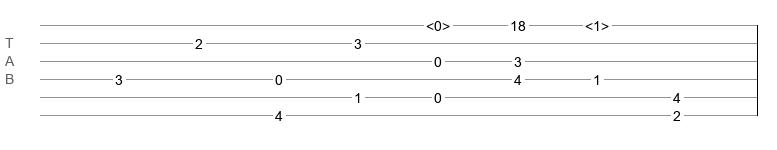0: (275, 72, 283, 82), (434, 54, 442, 64), (434, 90, 442, 100)
1: (354, 90, 362, 100), (593, 72, 601, 82)
18: (510, 18, 526, 28)
2: (195, 36, 203, 46), (673, 108, 681, 118)
3: (115, 72, 123, 82), (354, 36, 362, 46), (514, 54, 522, 64)
4: (275, 108, 283, 118), (514, 72, 522, 82), (673, 90, 681, 100)
harmonic: (426, 18, 450, 28), (585, 18, 609, 28)
